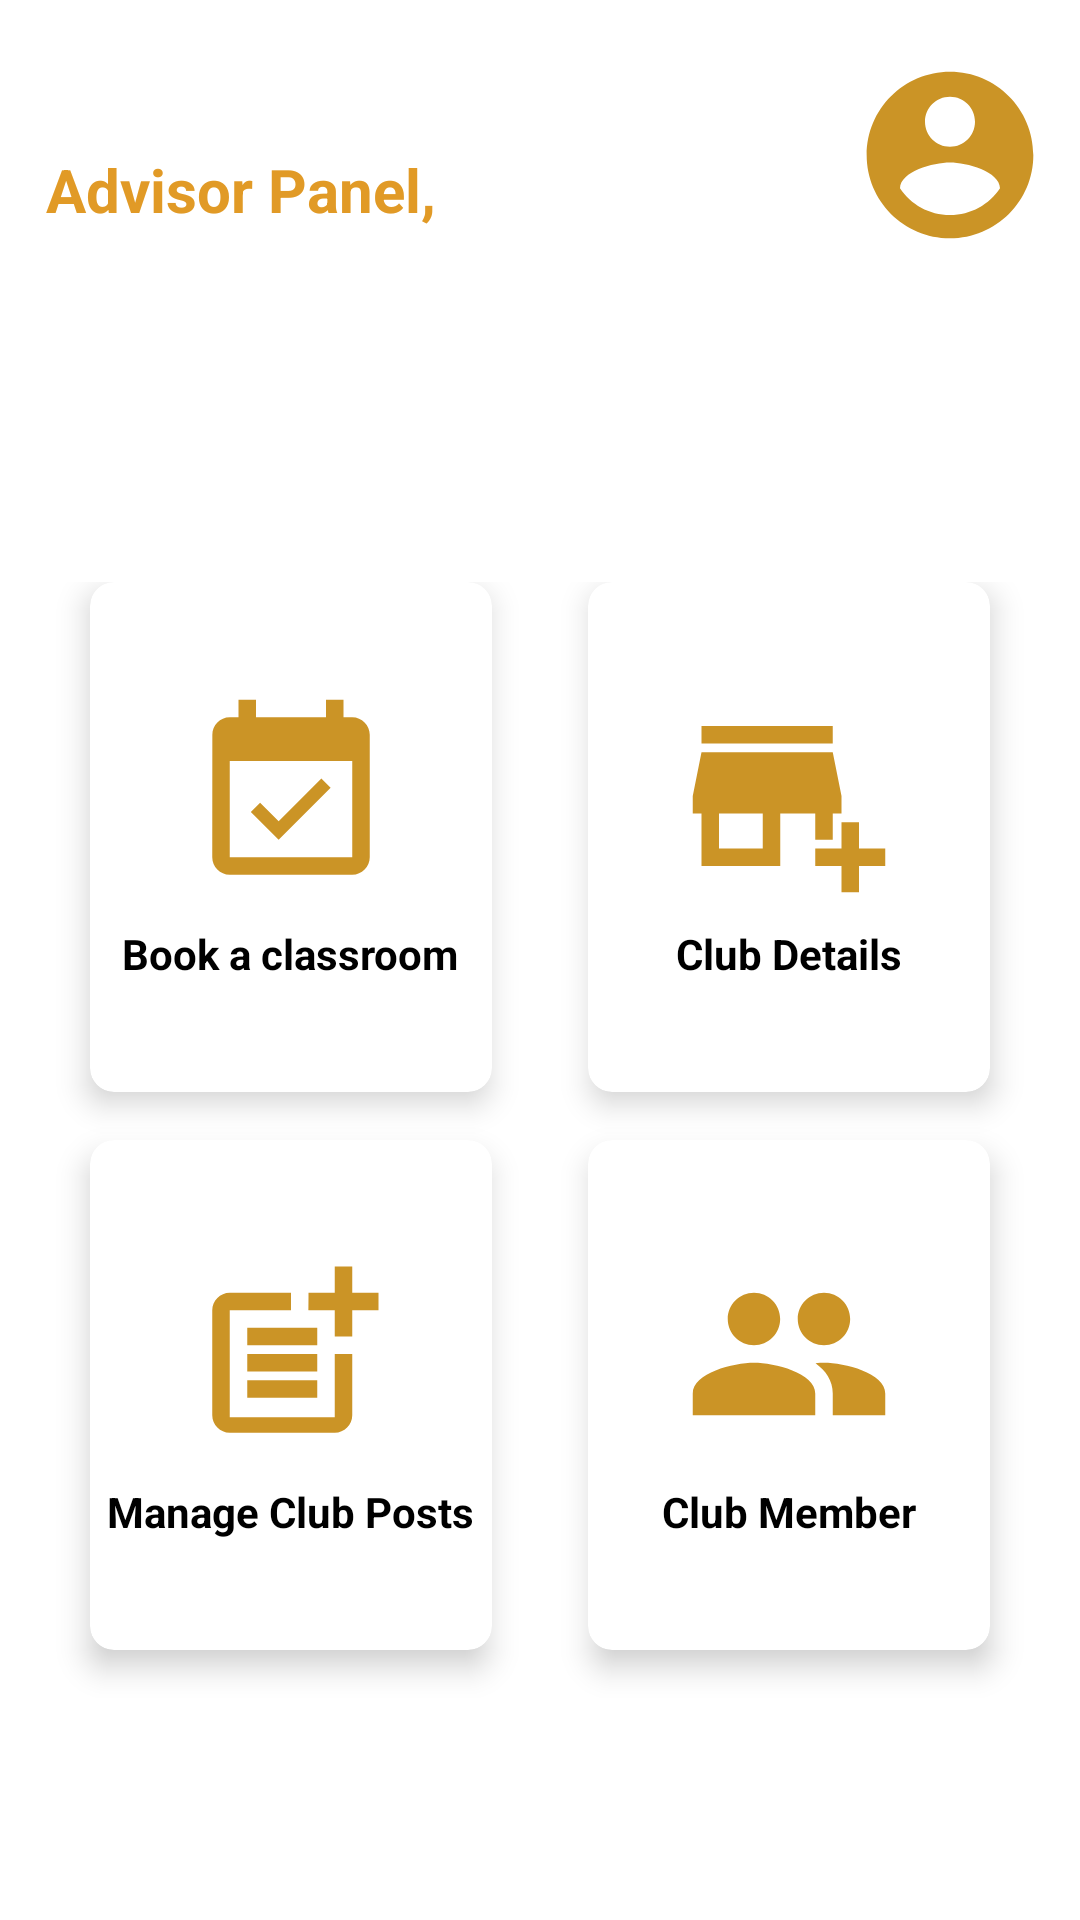

Locate icon controls on the screen. Image size 1080×1920, boxes as [left=x1, top=y1, right=x2, bottom=y2].
add club: [left=692, top=726, right=886, bottom=893]
book room: [left=212, top=699, right=370, bottom=875]
profile: [left=866, top=71, right=1034, bottom=239]
